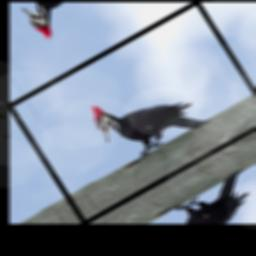Woodpecker: (85, 61, 214, 173)
